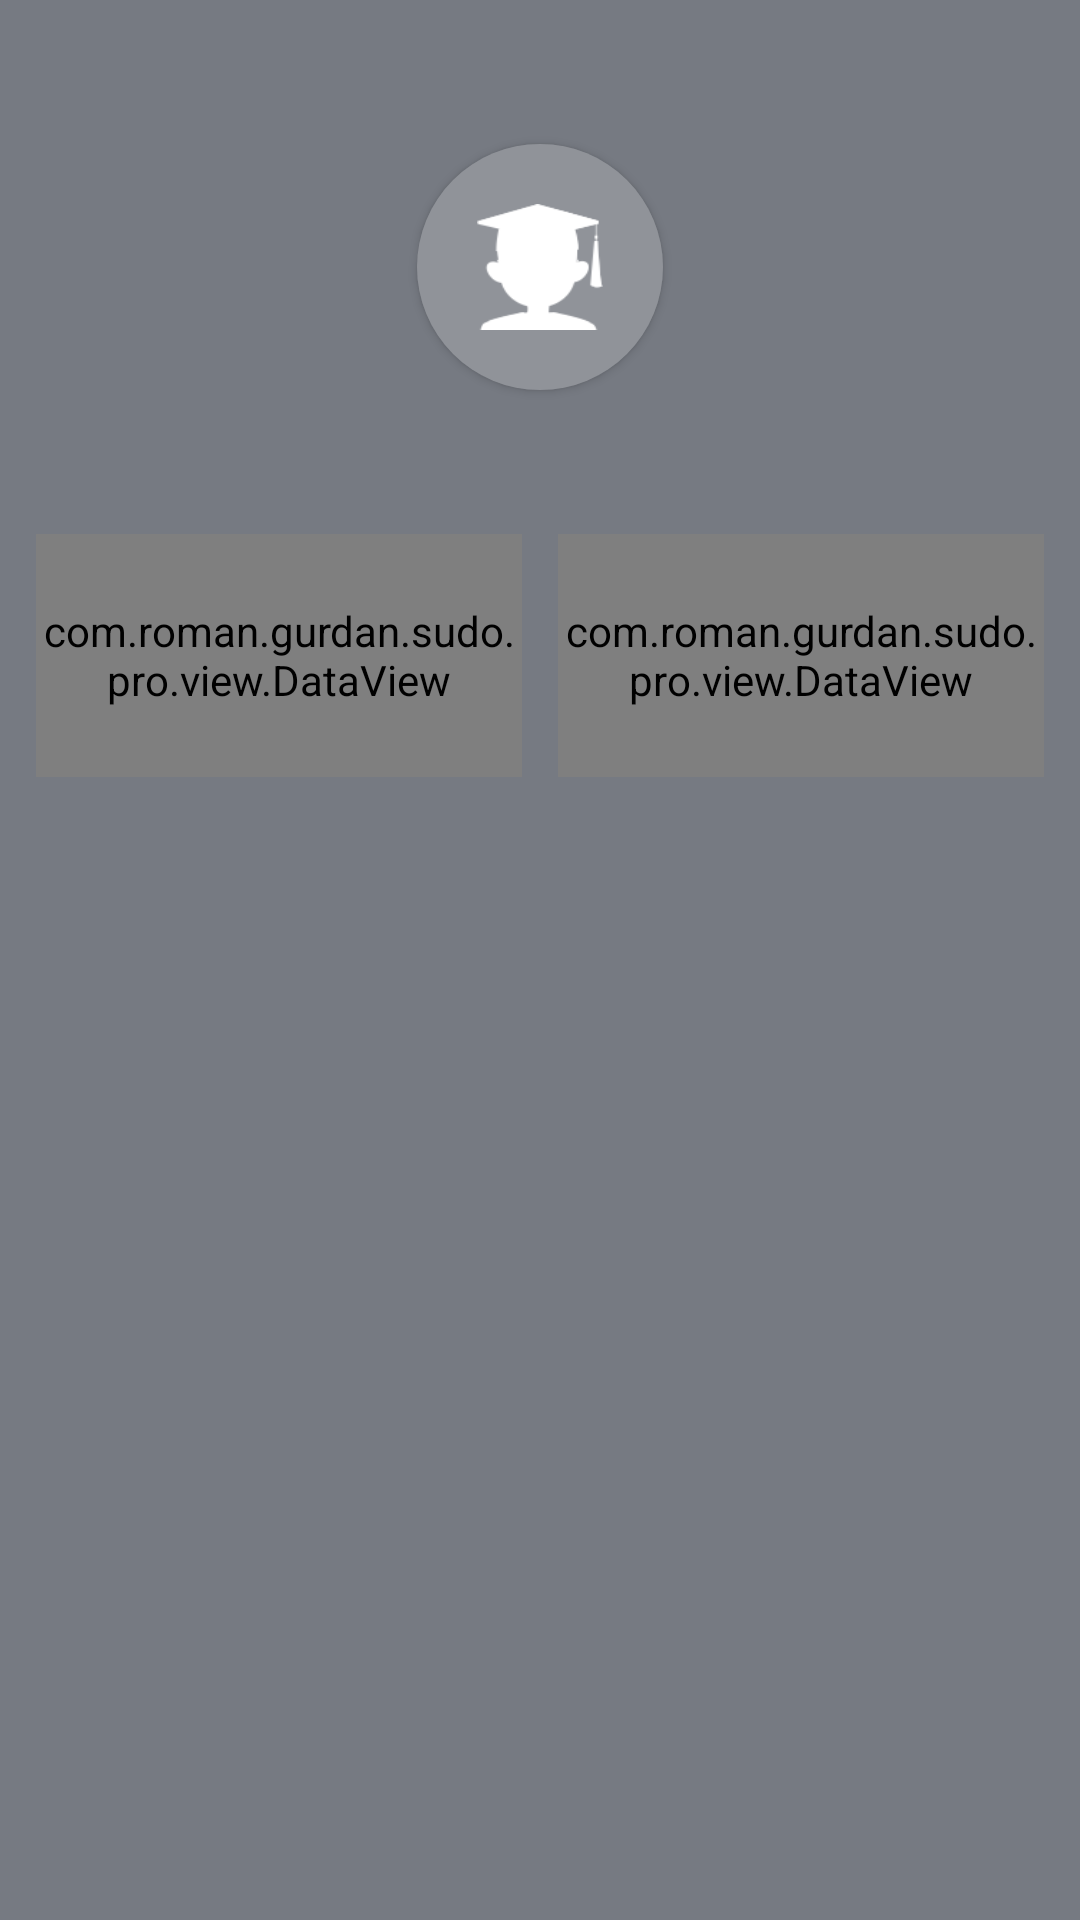

Named icons in this screenshot (1080 x 1920) and their centers, [x,y]:
male: [540,267]
